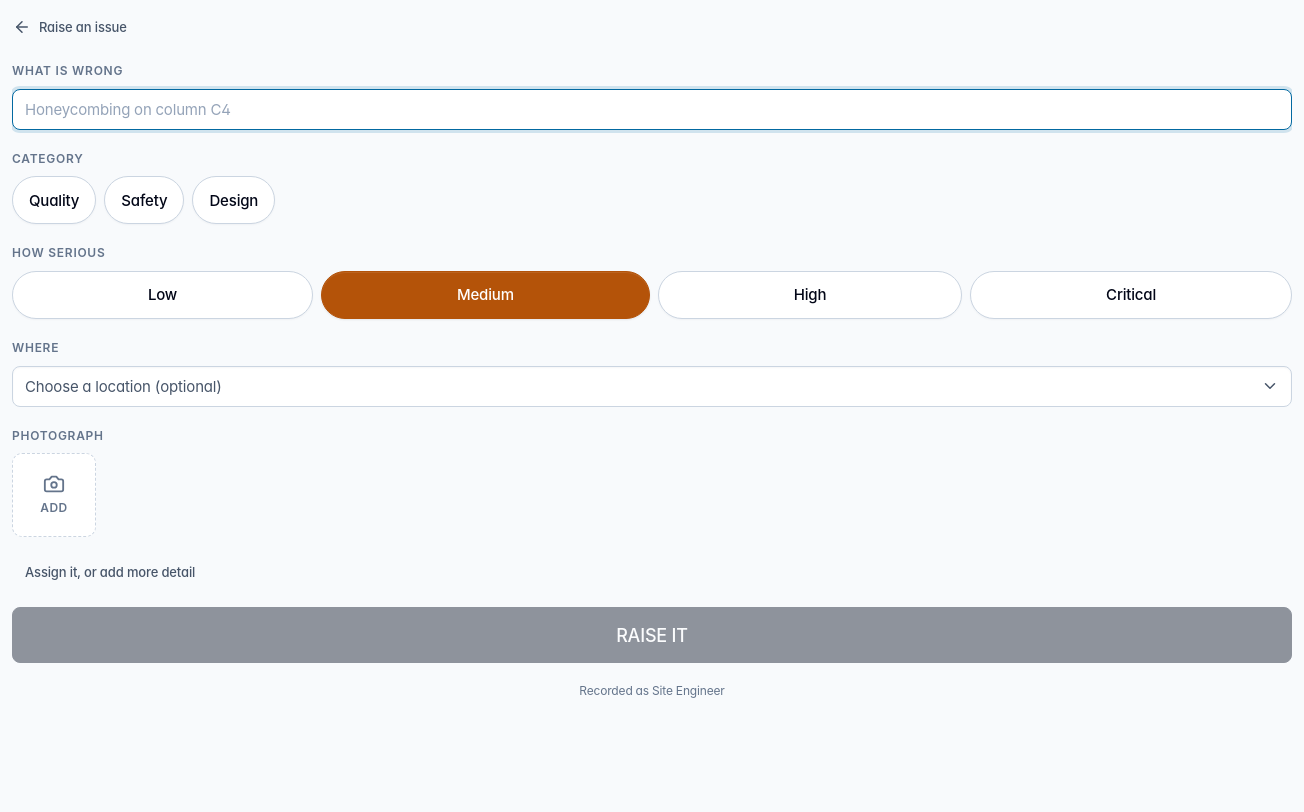
Scenario: S-M10 raise an issue › warns BEFORE submission that high and critical need an approval to close
Click the button "Critical" at (1131, 295), box [970, 271, 1292, 319]
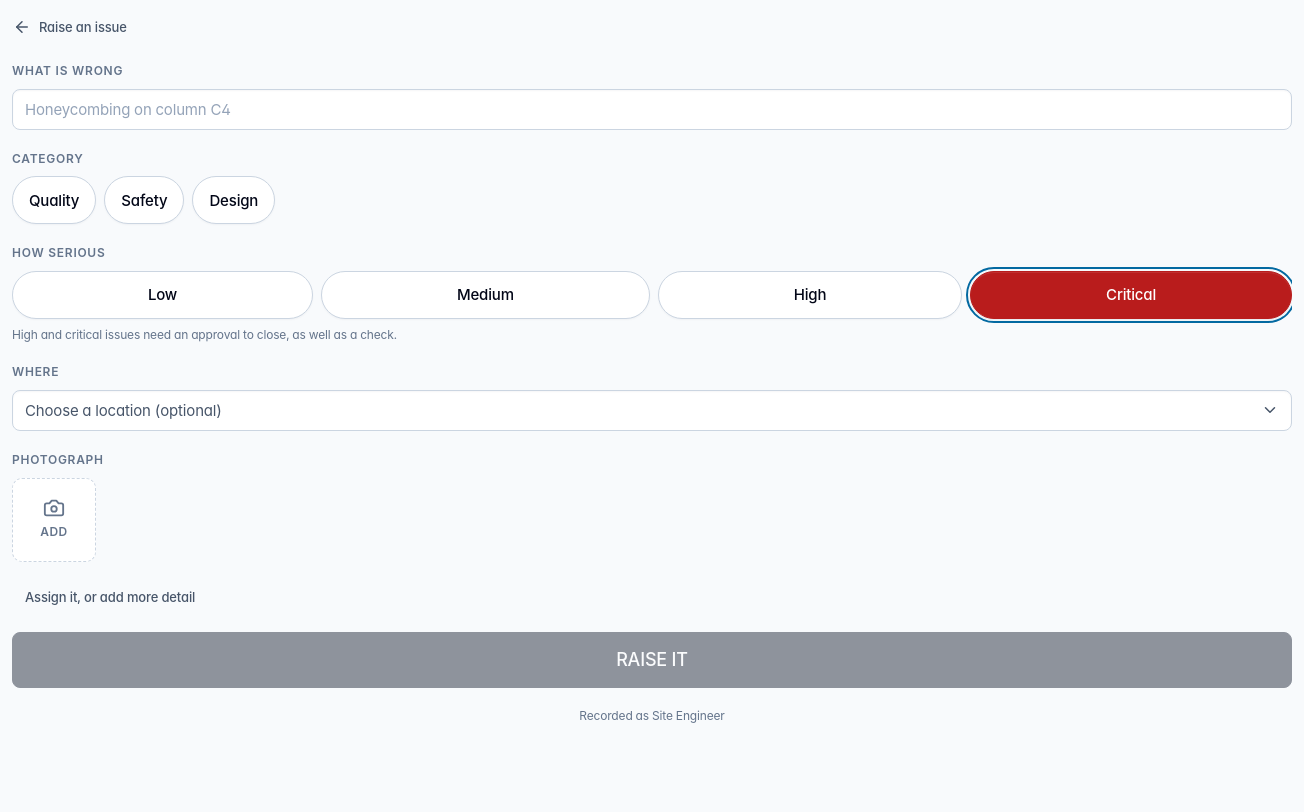
Expected: the text "need an approval to close" is shown, [12, 327, 397, 342]
